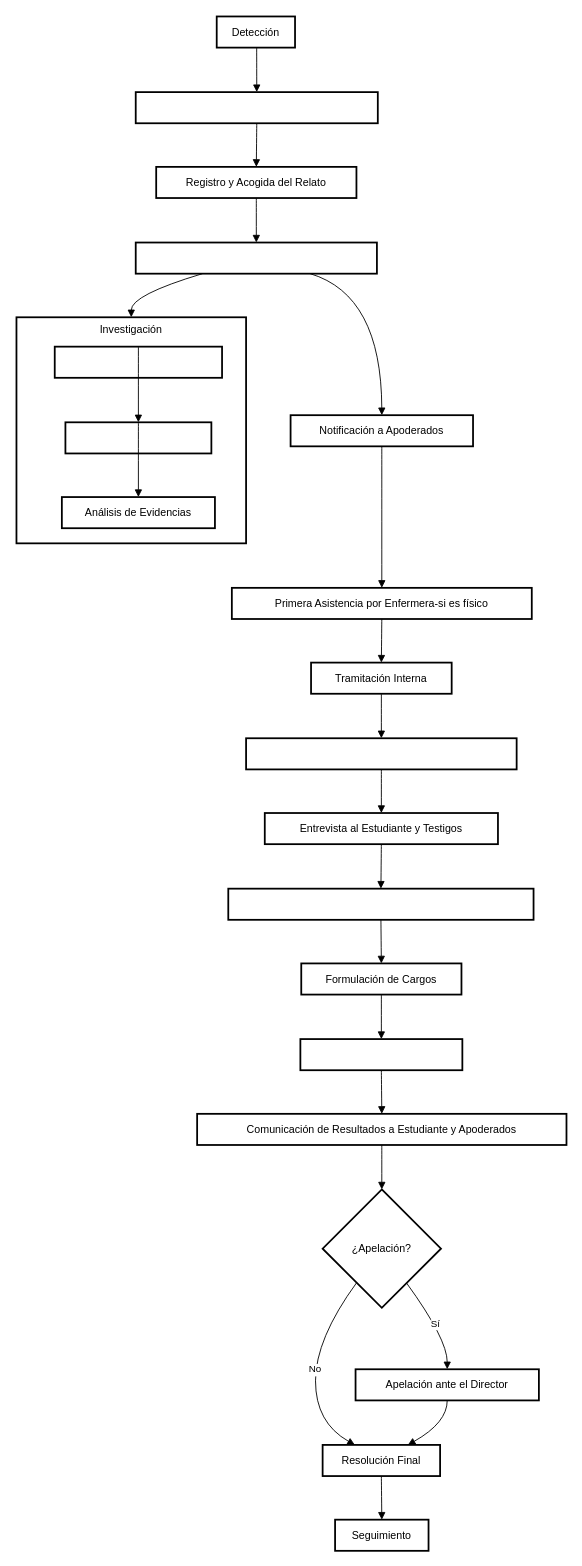
Image size: 582x1566. Some labels were removed from this diagram. The shapes that lost their labels are listed below. From the top down, each one's box as (x1, y1, x2, y2) in pixels, then its label:
(134, 91, 378, 124): Denuncia dentro de 24 horas al ECE
(134, 241, 377, 274): Investigación por el ECE o Designee
(53, 345, 222, 378): Entrevista al Estudiante
(64, 421, 212, 454): Entrevista a Testigos
(245, 737, 517, 770): Investigación y Recogida de Información
(227, 887, 534, 920): Información a Apoderados dentro de 24 horas
(299, 1038, 463, 1071): Calificación de la Falta
